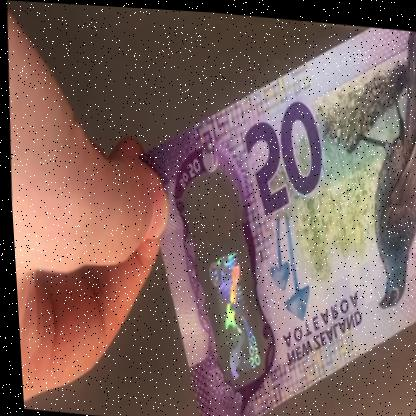50B: (194, 180, 267, 381)
